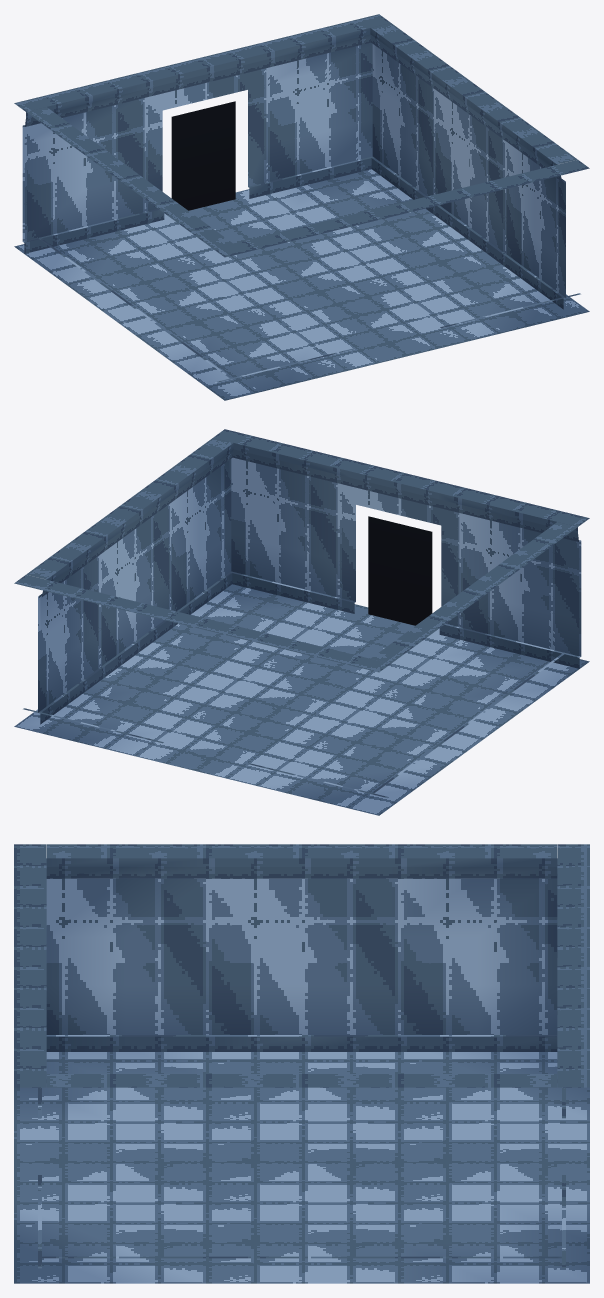
File: cyroom.apartment.glb
3 views of the same model, one above another, from view 1: azimuth 30°, elevation 25°; view 2: azimuth 150°, elevation 25°; view 3: azimuth 270°, elevation 25° (orthographic). The views are drawn at different scales.
Parts seen in each view (by area): view 1: kit_shell_walls, kit_shell_floor, kit_card_lights; view 2: kit_shell_walls, kit_shell_floor, kit_card_lights; view 3: kit_shell_walls, kit_shell_floor.
Boxes of the visible parts, x1,y1,x2,y2 form: kit_shell_walls: [14, 14, 589, 383]; kit_shell_floor: [14, 169, 589, 400]; kit_card_lights: [171, 101, 235, 210]; kit_shell_walls: [14, 429, 589, 798]; kit_shell_floor: [14, 584, 589, 815]; kit_card_lights: [368, 516, 432, 625]; kit_shell_walls: [14, 844, 589, 1268]; kit_shell_floor: [14, 1052, 589, 1283].
Size of the model in its own units: 12 by 4.5 by 12.
6 materials, 6 textured.
